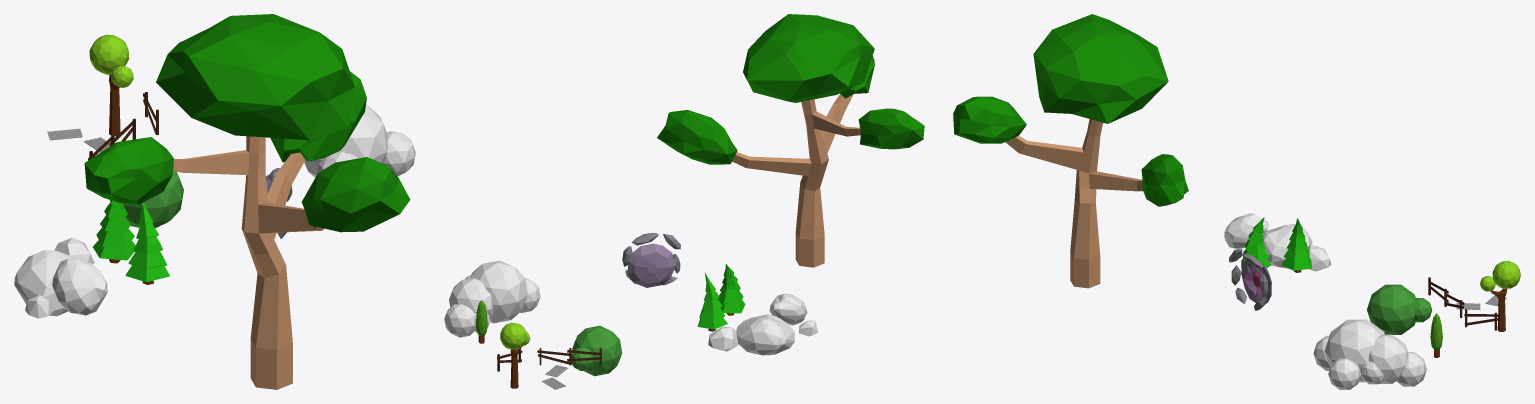
The model's file is portal.glb.
3 renders of one model, left to right at view 1: azimuth 30°, elevation 25°; view 2: azimuth 150°, elevation 25°; view 3: azimuth 270°, elevation 25°, orthographic. The views are drawn at different scales.
Parts seen in each view (by area): view 1: Icokugel.003, Zylinder, Icokugel.002, Icokugel.001, Sphere.001, Icokugel, Sphere, Cylinder, Icosphere.016, Cylinder.001, Icosphere.025, Icosphere_Icosphere.002 (+6 smaller); view 2: Icokugel.003, Zylinder, Icokugel, Icokugel.001, Icosphere.016, Sphere, Cylinder.011, Icosphere.025, Icosphere.017, Cylinder.001, Sphere.001, Cylinder (+5 smaller); view 3: Icokugel.003, Zylinder, Icokugel.002, Icosphere.025, Icosphere.016, Icokugel, Icosphere.017, Sphere, Cylinder.001, Sphere.001, Cylinder.011, Icosphere.015 (+3 smaller).
Part boxes in pixels (left/top/right/bottom): Icokugel.003: left=156, top=14, right=355, bottom=140; Zylinder: left=173, top=136, right=324, bottom=389; Icokugel.002: left=301, top=157, right=410, bottom=232; Icokugel.001: left=84, top=137, right=173, bottom=204; Sphere.001: left=52, top=258, right=107, bottom=315; Icokugel: left=270, top=71, right=366, bottom=162; Sphere: left=14, top=250, right=86, bottom=316; Cylinder: left=125, top=202, right=169, bottom=284; Icosphere.016: left=304, top=104, right=387, bottom=177; Cylinder.001: left=93, top=200, right=135, bottom=263; Icosphere.025: left=123, top=171, right=183, bottom=228; Icosphere_Icosphere.002: left=89, top=34, right=129, bottom=74; Icokugel.003: left=743, top=14, right=874, bottom=102; Zylinder: left=732, top=94, right=860, bottom=267; Icokugel: left=657, top=110, right=737, bottom=164; Icokugel.001: left=858, top=108, right=924, bottom=149; Icosphere.016: left=470, top=260, right=527, bottom=323; Sphere: left=736, top=314, right=794, bottom=355; Cylinder.011: left=628, top=243, right=675, bottom=287; Icosphere.025: left=572, top=325, right=622, bottom=376; Icosphere.017: left=449, top=278, right=492, bottom=318; Cylinder.001: left=697, top=272, right=727, bottom=331; Sphere.001: left=769, top=293, right=807, bottom=325; Cylinder: left=718, top=264, right=745, bottom=315; Icokugel.003: left=1033, top=14, right=1168, bottom=123; Zylinder: left=1005, top=119, right=1142, bottom=288; Icokugel.002: left=953, top=96, right=1026, bottom=143; Icosphere.025: left=1367, top=284, right=1415, bottom=334; Icosphere.016: left=1324, top=319, right=1384, bottom=382; Icokugel: left=1141, top=154, right=1188, bottom=206; Icosphere.017: left=1368, top=334, right=1408, bottom=383; Sphere: left=1262, top=224, right=1312, bottom=268; Cylinder.001: left=1281, top=218, right=1311, bottom=272; Sphere.001: left=1224, top=213, right=1269, bottom=249; Cylinder.011: left=1241, top=260, right=1271, bottom=303; Icosphere.015: left=1328, top=358, right=1361, bottom=389.
Size of what is drawn, in the model's own units: 26.14 by 18.97 by 36.37.
